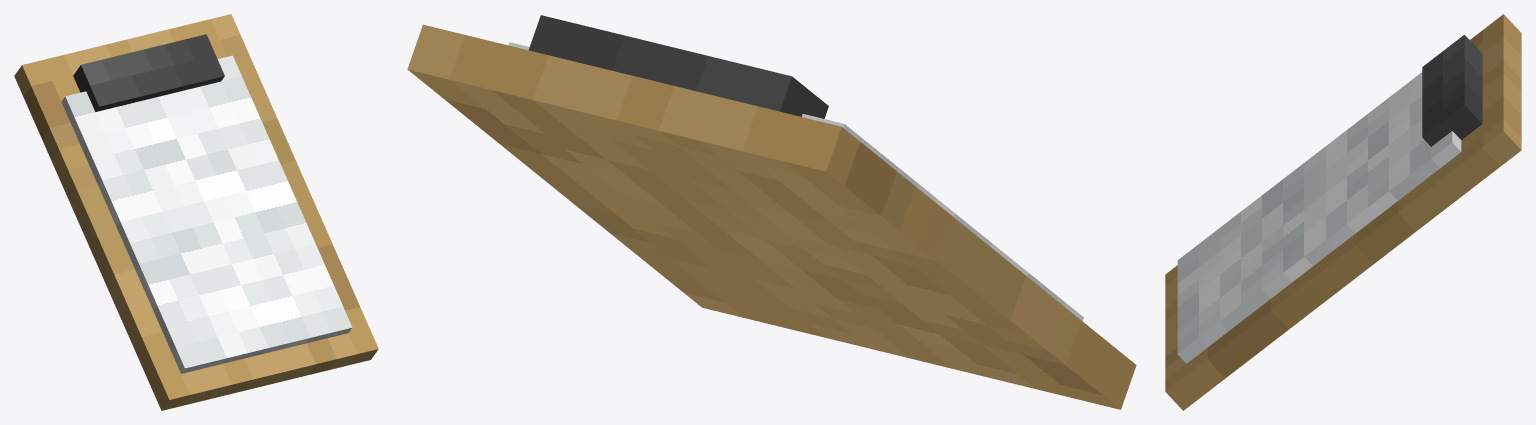
Rendered from clipboard.glb.
3 views of the same model, side by side, from view 1: azimuth 30°, elevation 25°; view 2: azimuth 150°, elevation 25°; view 3: azimuth 270°, elevation 25° (orthographic). The views are drawn at different scales.
Parts seen in each view (by area): view 1: 547625b8-63df-ad51-84e7-80ba2d29fc6f_1, 285448cc-70d8-04ee-2a7f-72d45a283546_2, 35f51dbb-6208-7e97-4535-96f8e19e398c_0; view 2: 285448cc-70d8-04ee-2a7f-72d45a283546_2, 35f51dbb-6208-7e97-4535-96f8e19e398c_0, 547625b8-63df-ad51-84e7-80ba2d29fc6f_1; view 3: 547625b8-63df-ad51-84e7-80ba2d29fc6f_1, 285448cc-70d8-04ee-2a7f-72d45a283546_2, 35f51dbb-6208-7e97-4535-96f8e19e398c_0.
Part boxes in pixels (box(x1,y1,x2,y2)): 547625b8-63df-ad51-84e7-80ba2d29fc6f_1: box(61, 55, 352, 373); 285448cc-70d8-04ee-2a7f-72d45a283546_2: box(14, 14, 378, 410); 35f51dbb-6208-7e97-4535-96f8e19e398c_0: box(73, 34, 224, 111); 285448cc-70d8-04ee-2a7f-72d45a283546_2: box(407, 24, 1136, 409); 35f51dbb-6208-7e97-4535-96f8e19e398c_0: box(529, 15, 828, 118); 547625b8-63df-ad51-84e7-80ba2d29fc6f_1: box(508, 42, 1083, 321); 547625b8-63df-ad51-84e7-80ba2d29fc6f_1: box(1177, 72, 1461, 363); 285448cc-70d8-04ee-2a7f-72d45a283546_2: box(1165, 14, 1521, 410); 35f51dbb-6208-7e97-4535-96f8e19e398c_0: box(1422, 35, 1482, 146).
Bounding box in the file's own units: 0.625 × 0.7023 × 0.8025.
3 materials, 3 textured.
